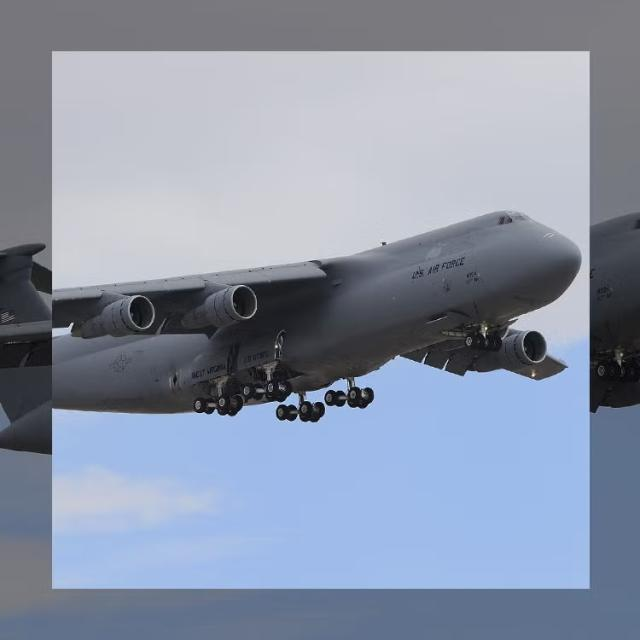C5: (26, 154, 588, 460)
